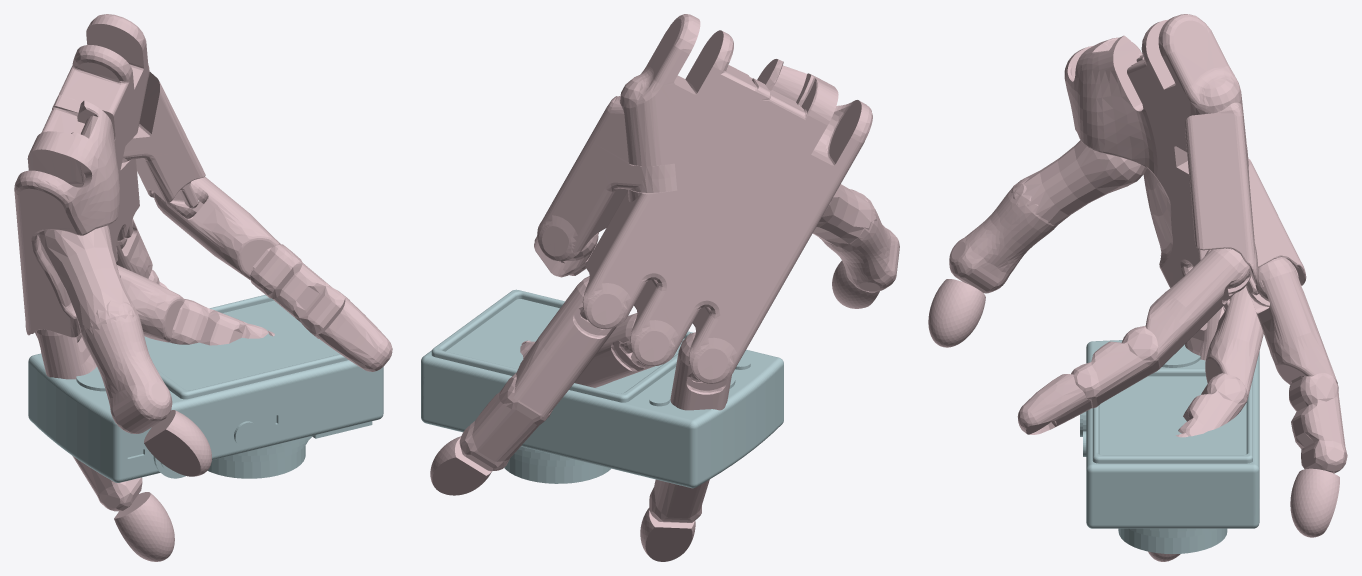
The model's file is grasp_4.glb.
3 renders of one model, left to right at view 1: azimuth 30°, elevation 25°; view 2: azimuth 150°, elevation 25°; view 3: azimuth 270°, elevation 25°, orthographic. The views are drawn at different scales.
Visible parts, largest first — view 1: world; view 2: world; view 3: world.
Part boxes in pixels (x1,y1,x2,y2): world: (14, 14, 392, 561); world: (421, 14, 899, 561); world: (928, 14, 1347, 561).
Size of the model in its own units: 0.1501 by 0.2181 by 0.1566.
